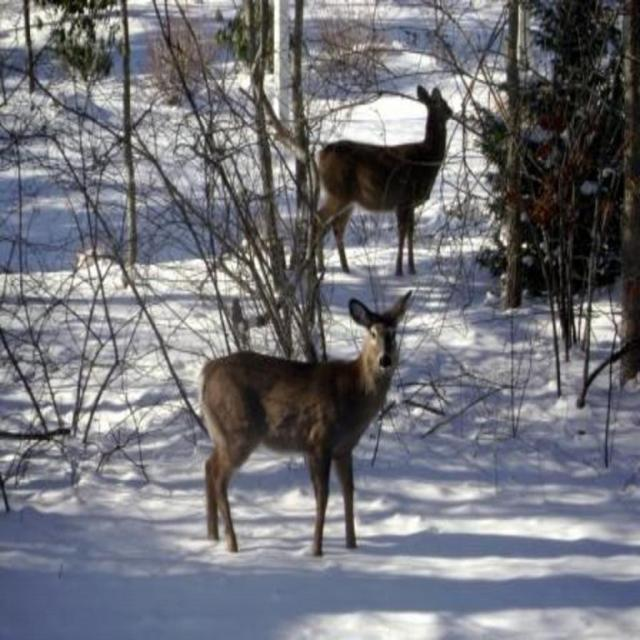Deer: (207, 292, 412, 556), (314, 86, 452, 274)
